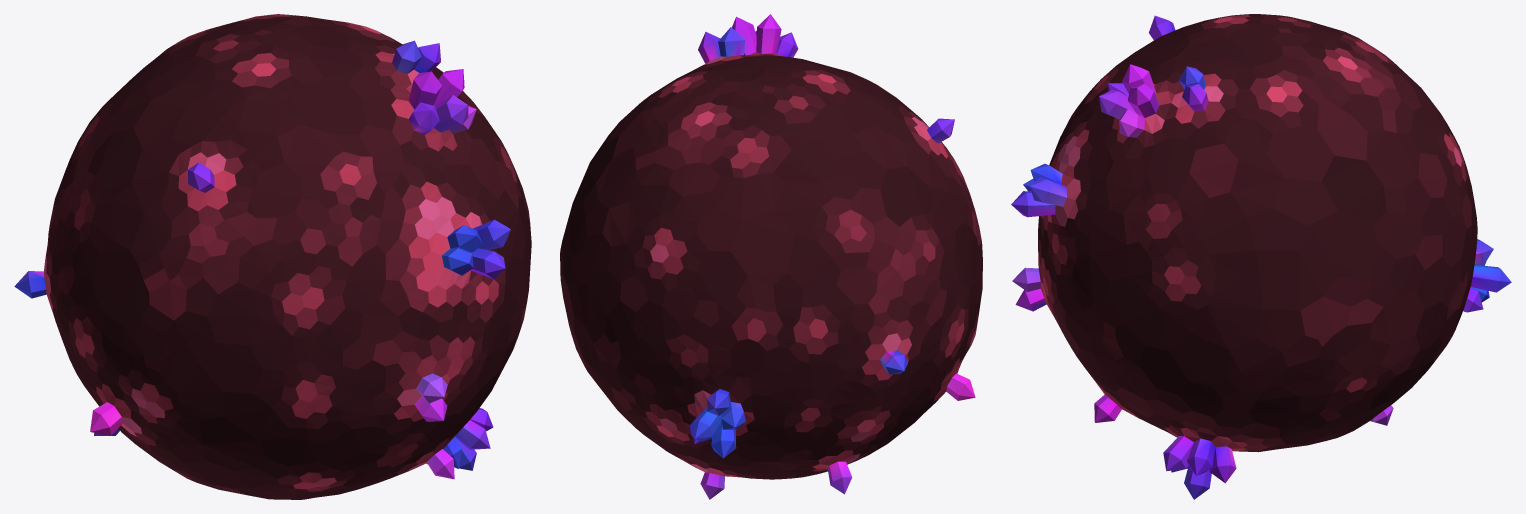
The model's file is Crystal_planet_3.fbx.
3 renders of one model, left to right at view 1: azimuth 30°, elevation 25°; view 2: azimuth 150°, elevation 25°; view 3: azimuth 270°, elevation 25°, orthographic. The views are drawn at different scales.
Visible parts, largest first — view 1: file6; view 2: file6; view 3: file6.
Part boxes in pixels (box(x1,y1,x2,y2)): file6: box(14, 14, 531, 499); file6: box(560, 14, 982, 499); file6: box(1011, 14, 1511, 499).
Bounding box in the file's own units: 2.02 × 2.04 × 2.28.
